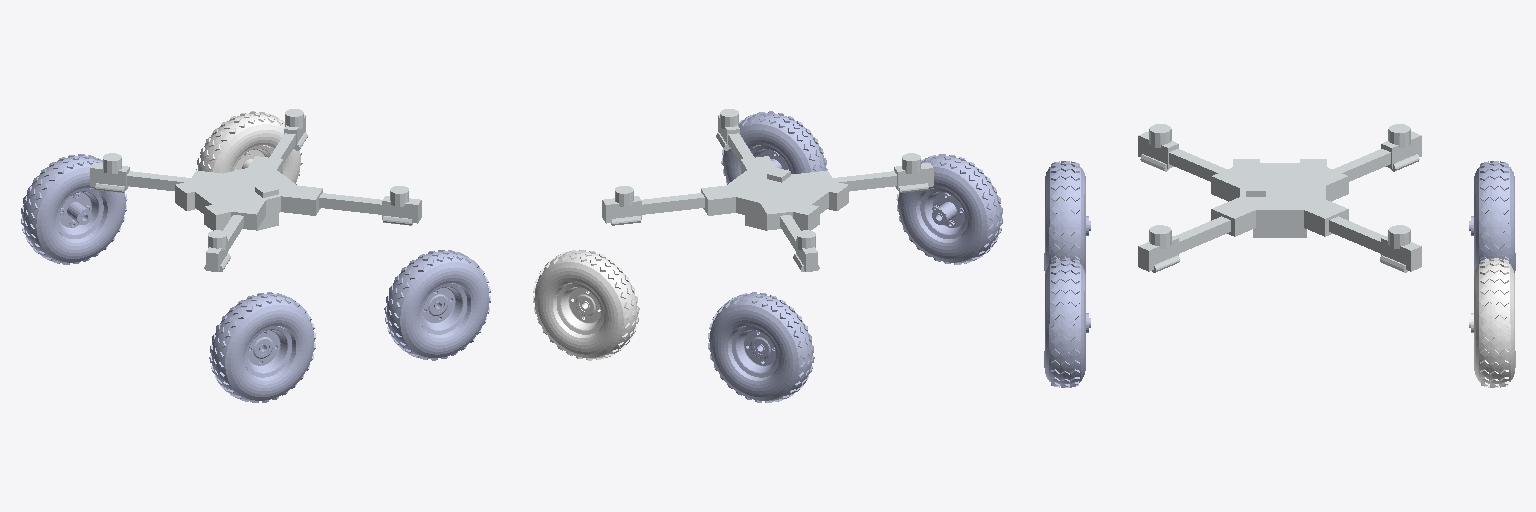
URDF robot description (RoverV1.3.SLDASM):
<?xml version="1.0" encoding="utf-8"?>
<!-- This URDF was automatically created by SolidWorks to URDF Exporter! Originally created by [author] ([email redacted]) 
     Commit Version: 1.5.1-0-g916b5db  Build Version: 1.5.7152.31018
     For more information, please see http://wiki.ros.org/sw_urdf_exporter -->
<robot
  name="RoverV1.3.SLDASM">
  <link
    name="base_link">
    <inertial>
      <origin
        xyz="-0.011376 0.0026377 -0.050316"
        rpy="0 0 0" />
      <mass
        value="10.704" />
      <inertia
        ixx="0.059189"
        ixy="-1.249E-06"
        ixz="-2.2283E-07"
        iyy="0.1305"
        iyz="-3.4556E-07"
        izz="0.14645" />
    </inertial>
    <visual>
      <origin
        xyz="0 0 0"
        rpy="0 0 0" />
      <geometry>
        <mesh
          filename="package://RoverV1.3.SLDASM/meshes/base_link.STL" />
      </geometry>
      <material
        name="">
        <color
          rgba="0.89804 0.91765 0.92941 1" />
      </material>
    </visual>
    <collision>
      <origin
        xyz="0 0 0"
        rpy="0 0 0" />
      <geometry>
        <mesh
          filename="package://RoverV1.3.SLDASM/meshes/base_link.STL" />
      </geometry>
    </collision>
  </link>
  <link
    name="RL_tire">
    <inertial>
      <origin
        xyz="-7.3908E-08 -0.0036834 -1.4247E-05"
        rpy="0 0 0" />
      <mass
        value="1.3019" />
      <inertia
        ixx="0.0048572"
        ixy="4.444E-09"
        ixz="-2.5979E-09"
        iyy="0.0085234"
        iyz="1.414E-05"
        izz="0.0048572" />
    </inertial>
    <visual>
      <origin
        xyz="0 0 0"
        rpy="0 0 0" />
      <geometry>
        <mesh
          filename="package://RoverV1.3.SLDASM/meshes/RL_tire.STL" />
      </geometry>
      <material
        name="">
        <color
          rgba="0.79216 0.81961 0.93333 1" />
      </material>
    </visual>
    <collision>
      <origin
        xyz="0 0 0"
        rpy="0 0 0" />
      <geometry>
        <mesh
          filename="package://RoverV1.3.SLDASM/meshes/RL_tire.STL" />
      </geometry>
    </collision>
  </link>
  <joint
    name="RL_tire_joint"
    type="revolute">
    <origin
      xyz="-0.23 0.42963 -0.14076"
      rpy="0 0 0" />
    <parent
      link="base_link" />
    <child
      link="RL_tire" />
    <axis
      xyz="0 -0.99999 -0.0038569" />
    <limit
      lower="-1E+19"
      upper="1E+19"
      effort="100"
      velocity="100" />
    <dynamics
      damping="0.004" />
  </joint>
  <link
    name="RR_tire">
    <inertial>
      <origin
        xyz="1.0863E-07 0.0036834 -1.4186E-05"
        rpy="0 0 0" />
      <mass
        value="1.3019" />
      <inertia
        ixx="0.0048572"
        ixy="4.9199E-09"
        ixz="1.2438E-08"
        iyy="0.0085235"
        iyz="-1.4141E-05"
        izz="0.0048573" />
    </inertial>
    <visual>
      <origin
        xyz="0 0 0"
        rpy="0 0 0" />
      <geometry>
        <mesh
          filename="package://RoverV1.3.SLDASM/meshes/RR_tire.STL" />
      </geometry>
      <material
        name="">
        <color
          rgba="0.79216 0.81961 0.93333 1" />
      </material>
    </visual>
    <collision>
      <origin
        xyz="0 0 0"
        rpy="0 0 0" />
      <geometry>
        <mesh
          filename="package://RoverV1.3.SLDASM/meshes/RR_tire.STL" />
      </geometry>
    </collision>
  </link>
  <joint
    name="RR_tire_joint"
    type="revolute">
    <origin
      xyz="-0.23 -0.42963 -0.14076"
      rpy="0 0 0" />
    <parent
      link="base_link" />
    <child
      link="RR_tire" />
    <axis
      xyz="0 0.99999 -0.0038568" />
    <limit
      lower="-1E+19"
      upper="1E+19"
      effort="100"
      velocity="100" />
    <dynamics
      damping="0.004" />
  </joint>
  <link
    name="FR_tire">
    <inertial>
      <origin
        xyz="7.3908E-08 0.0036834 -1.4247E-05"
        rpy="0 0 0" />
      <mass
        value="1.3019" />
      <inertia
        ixx="0.0048572"
        ixy="4.444E-09"
        ixz="2.5979E-09"
        iyy="0.0085234"
        iyz="-1.414E-05"
        izz="0.0048572" />
    </inertial>
    <visual>
      <origin
        xyz="0 0 0"
        rpy="0 0 0" />
      <geometry>
        <mesh
          filename="package://RoverV1.3.SLDASM/meshes/FR_tire.STL" />
      </geometry>
      <material
        name="">
        <color
          rgba="0.79216 0.81961 0.93333 1" />
      </material>
    </visual>
    <collision>
      <origin
        xyz="0 0 0"
        rpy="0 0 0" />
      <geometry>
        <mesh
          filename="package://RoverV1.3.SLDASM/meshes/FR_tire.STL" />
      </geometry>
    </collision>
  </link>
  <joint
    name="FR_tire_joint"
    type="revolute">
    <origin
      xyz="0.23 -0.42963 -0.14076"
      rpy="0 0 0" />
    <parent
      link="base_link" />
    <child
      link="FR_tire" />
    <axis
      xyz="0 0.99999 -0.0038568" />
    <limit
      lower="-1E+19"
      upper="1E+19"
      effort="100"
      velocity="100" />
    <dynamics
      damping="0.004" />
  </joint>
  <link
    name="FL_tire">
    <inertial>
      <origin
        xyz="0 0 0"
        rpy="0 0 0" />
      <mass
        value="0" />
      <inertia
        ixx="0"
        ixy="0"
        ixz="0"
        iyy="0"
        iyz="0"
        izz="0" />
    </inertial>
    <visual>
      <origin
        xyz="0 0 0"
        rpy="0 0 0" />
      <geometry>
        <mesh
          filename="package://RoverV1.3.SLDASM/meshes/FL_tire.STL" />
      </geometry>
      <material
        name="">
        <color
          rgba="1 1 1 1" />
      </material>
    </visual>
    <collision>
      <origin
        xyz="0 0 0"
        rpy="0 0 0" />
      <geometry>
        <mesh
          filename="package://RoverV1.3.SLDASM/meshes/FL_tire.STL" />
      </geometry>
    </collision>
  </link>
  <joint
    name="FL_tire_joint"
    type="revolute">
    <origin
      xyz="0.23 0.42963 -0.14076"
      rpy="0 0 0" />
    <parent
      link="base_link" />
    <child
      link="FL_tire" />
    <axis
      xyz="0 -0.99999 -0.0038569" />
    <limit
      lower="-1E+19"
      upper="1E+19"
      effort="100"
      velocity="100" />
    <dynamics
      damping="0.004" />
  </joint>
</robot>

--- Render facts (derived) ---
Views: 3 orthographic renders of the robot side by side, from view 1: azimuth 30°, elevation 25°; view 2: azimuth 150°, elevation 25°; view 3: azimuth 270°, elevation 25°.
Model RoverV1.3.SLDASM with 5 links and 4 joints (4 revolute), rooted at base_link, posed every joint at zero.
Links seen in each view (by area): view 1: base_link, RR_tire, FR_tire, RL_tire, FL_tire; view 2: base_link, RL_tire, FL_tire, RR_tire, FR_tire; view 3: base_link, FR_tire, FL_tire, RL_tire, RR_tire.
Link boxes in pixels (x1,y1,x2,y2): base_link: (90, 109, 421, 271); RR_tire: (209, 292, 315, 402); FR_tire: (384, 250, 490, 360); RL_tire: (21, 154, 127, 264); FL_tire: (196, 111, 302, 184); base_link: (602, 109, 933, 271); RL_tire: (708, 292, 814, 402); FL_tire: (533, 250, 639, 360); RR_tire: (896, 154, 1002, 264); FR_tire: (721, 111, 827, 184); base_link: (1138, 124, 1421, 272); FR_tire: (1044, 258, 1090, 387); FL_tire: (1469, 258, 1515, 387); RL_tire: (1469, 161, 1515, 272); RR_tire: (1044, 161, 1090, 272).
Size in the robot's own frame: 0.7203 by 0.9425 by 0.3404 metres.
5 mesh visuals loaded from 5 distinct referenced files (5 binary STL).